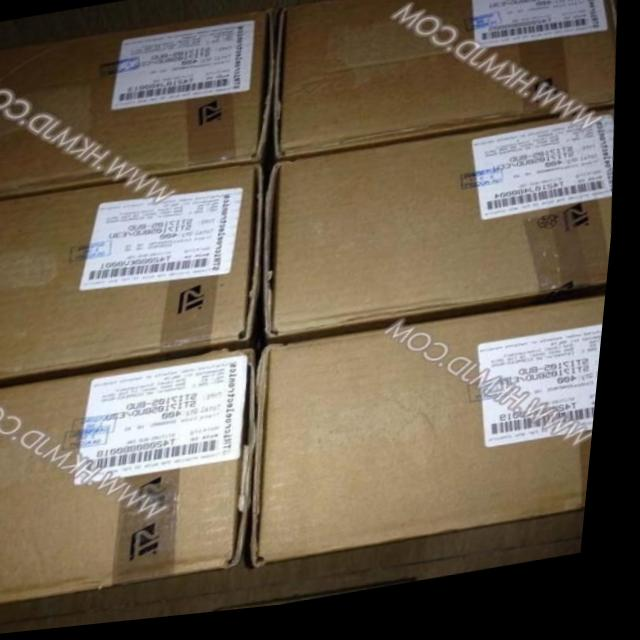box: (259, 304, 613, 576), (264, 118, 616, 347), (0, 347, 264, 606), (0, 166, 273, 384), (273, 0, 618, 166), (0, 15, 277, 201)
